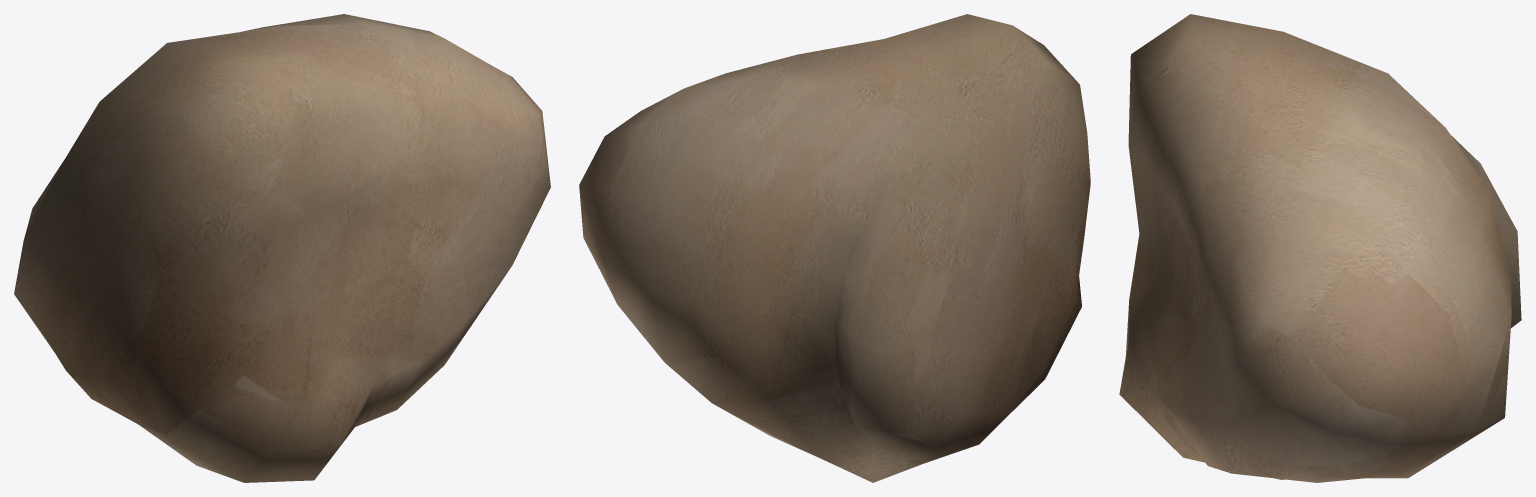
File: props_coalmines_boulder2_large.glb
The picture shows the model from 3 angles, left to right: view 1: azimuth 30°, elevation 25°; view 2: azimuth 150°, elevation 25°; view 3: azimuth 270°, elevation 25°; orthographic projection. The views are drawn at different scales.
Visible parts, largest first — view 1: models/props_coalmines/boulder2_large; view 2: models/props_coalmines/boulder2_large; view 3: models/props_coalmines/boulder2_large.
Part boxes in pixels (x1,y1,x2,y2): models/props_coalmines/boulder2_large: [14, 14, 550, 482]; models/props_coalmines/boulder2_large: [579, 14, 1090, 482]; models/props_coalmines/boulder2_large: [1119, 14, 1521, 482].
Bounding box in the file's own units: 145 × 133 × 112.
1 material, 1 textured.
